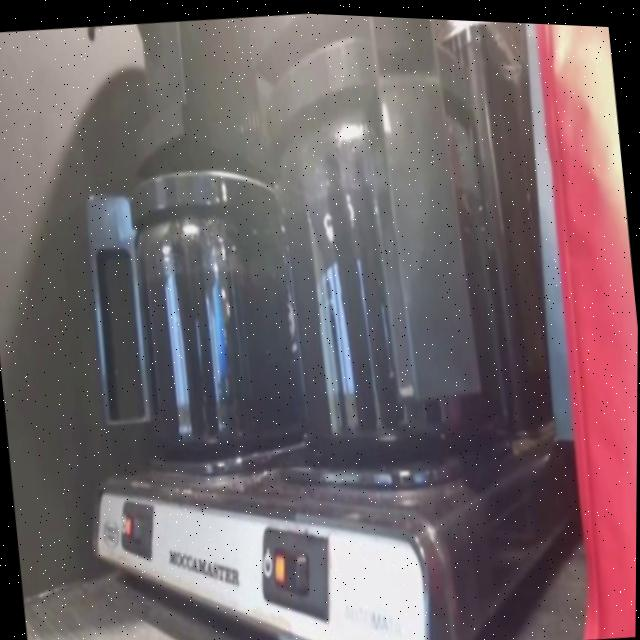coffee: (277, 157, 505, 464), (132, 221, 306, 448)
